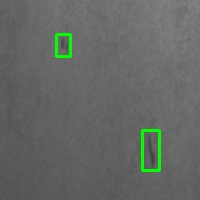inclusion: (142, 130, 159, 170), (56, 34, 70, 56)
